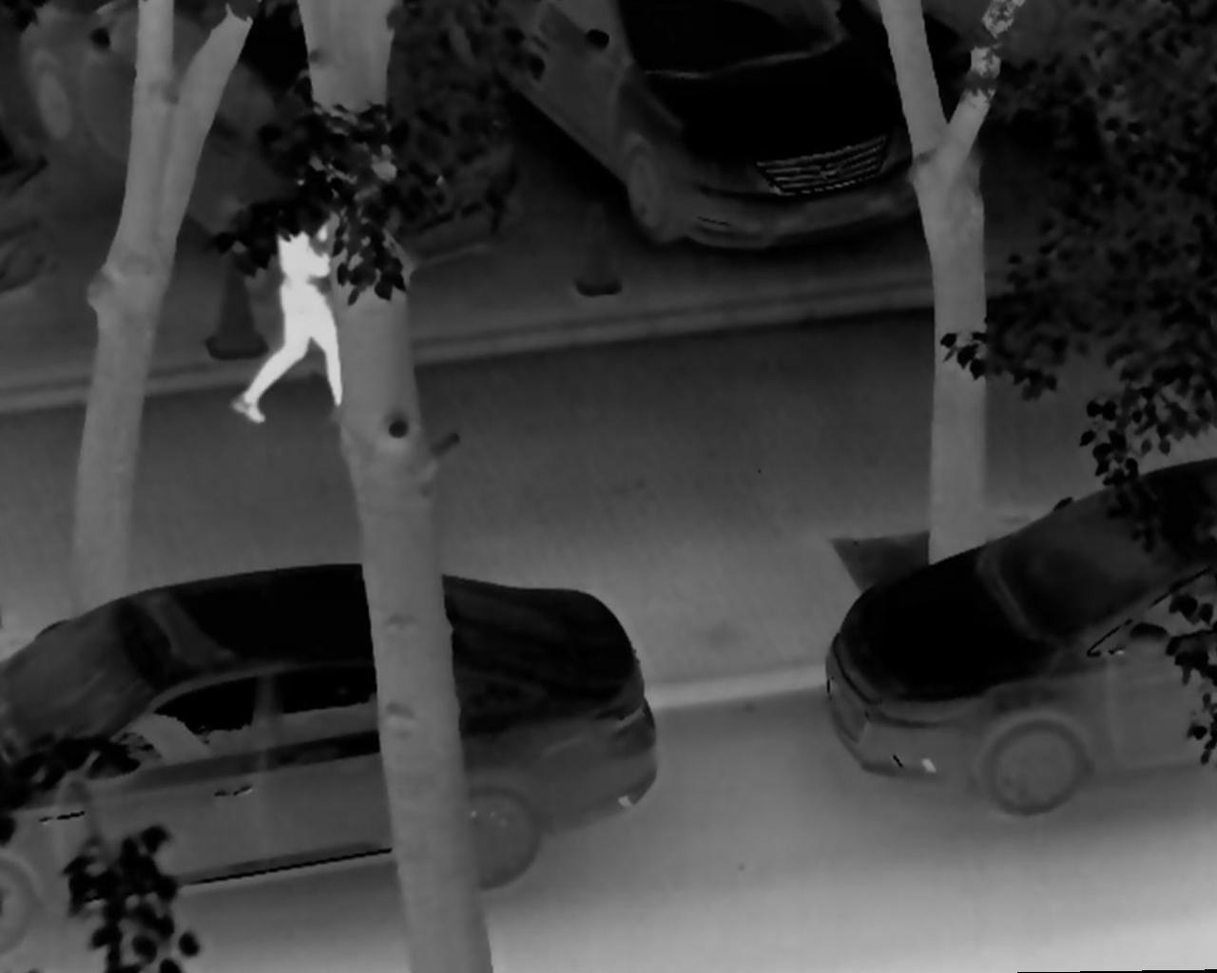person: (228, 165, 347, 425)
